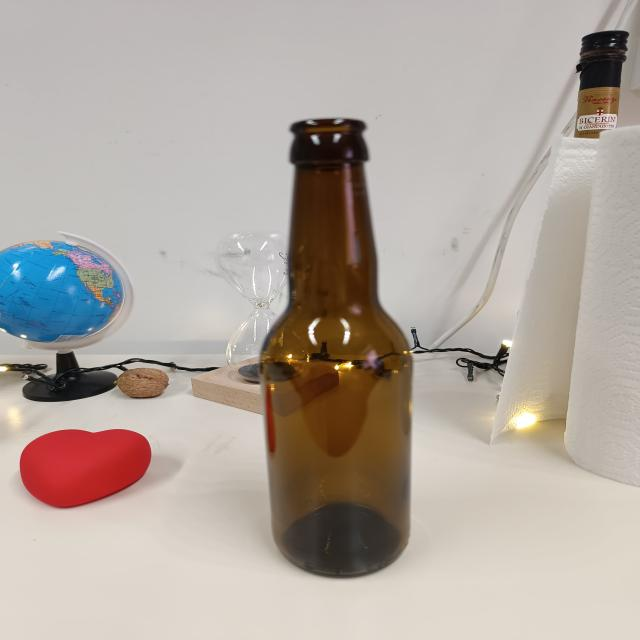Bottle: (253, 116, 412, 579)
